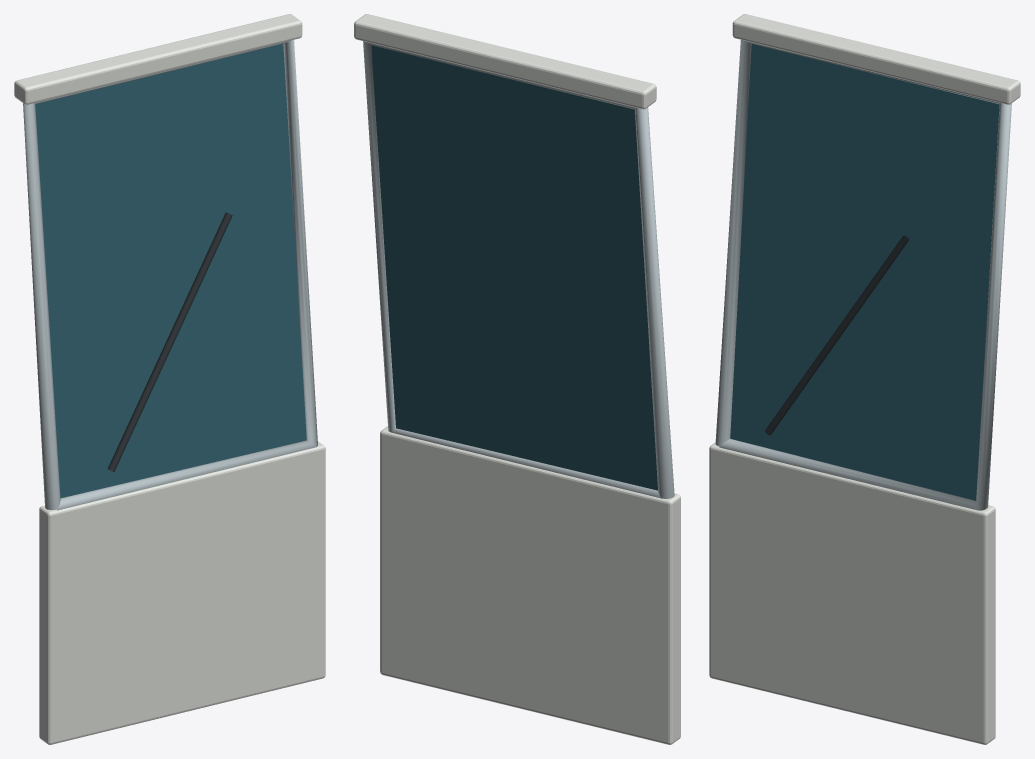
File: windshield_wall_1m.glb
The picture shows the model from 3 angles, left to right: view 1: azimuth 30°, elevation 25°; view 2: azimuth 150°, elevation 25°; view 3: azimuth 330°, elevation 25°; orthographic projection. The views are drawn at different scales.
Parts seen in each view (by area): view 1: Raked bridge glazing, Bridge sill, Windshield perimeter, Top beam, Wiper.001; view 2: Raked bridge glazing, Bridge sill, Windshield perimeter, Top beam; view 3: Raked bridge glazing, Bridge sill, Windshield perimeter, Top beam, Wiper.001.
Boxes of the visible parts, x1,y1,x2,y2 form: Raked bridge glazing: [35, 44, 306, 498]; Bridge sill: [39, 441, 325, 744]; Windshield perimeter: [23, 40, 317, 510]; Top beam: [14, 14, 302, 104]; Wiper.001: [107, 212, 232, 471]; Raked bridge glazing: [371, 45, 657, 490]; Bridge sill: [380, 426, 680, 744]; Windshield perimeter: [363, 41, 674, 498]; Top beam: [354, 14, 656, 109]; Raked bridge glazing: [730, 44, 999, 500]; Bridge sill: [709, 442, 995, 744]; Windshield perimeter: [715, 40, 1011, 510]; Top beam: [732, 14, 1020, 104]; Wiper.001: [765, 235, 908, 435].
Size of the model in its own units: 1 by 2.2 by 0.2394.
